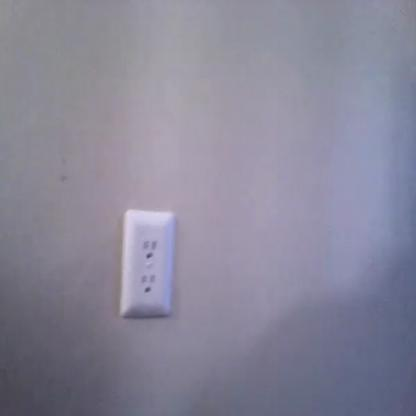OUTLET: (123, 208, 173, 320)
